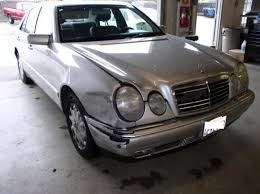Dent: (78, 90, 124, 149)
